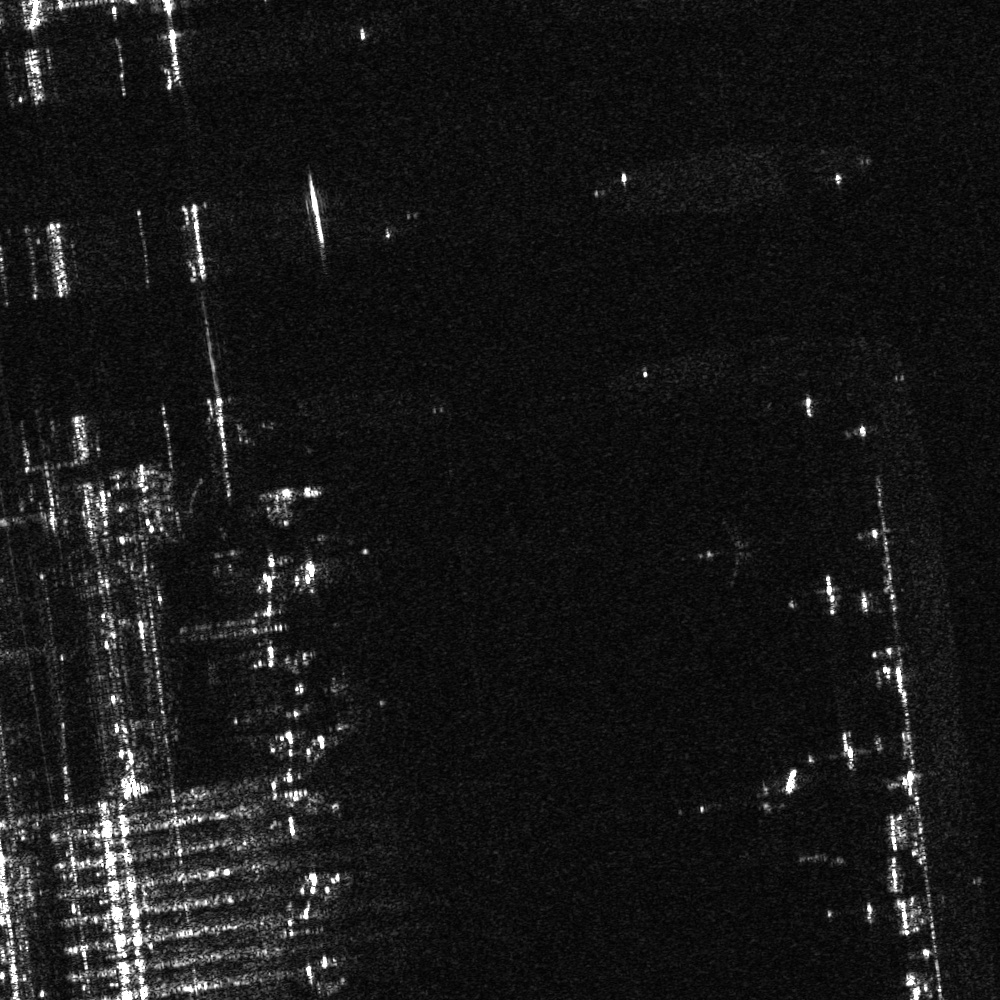Boeing737: (688, 516, 763, 592)
